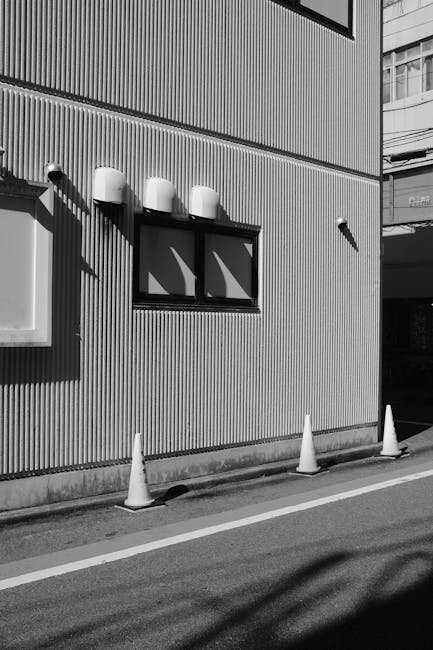traffic_cone: (119, 432, 167, 511), (287, 413, 329, 477), (378, 404, 404, 458)
